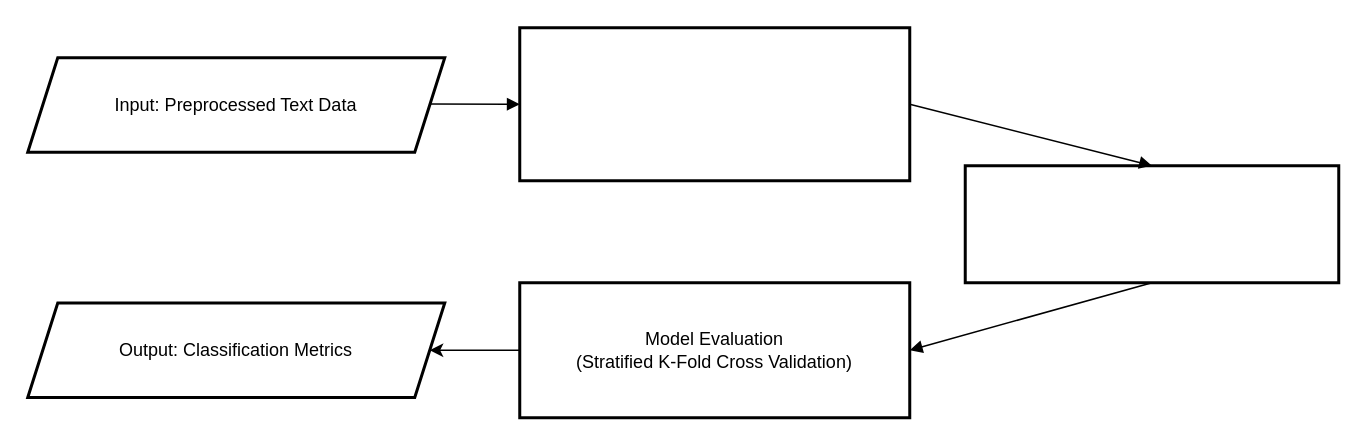
The diagram is 1365 pixels wide and 444 high, and some of its shapes have lost their labels. The shapes that lost their labels are listed below. From the top down, each one's box as (x1, y1, x2, y2) in pixels, then its label:
(518, 26, 910, 182): Feature Extraction using IndoBERTweet Embedding
(963, 164, 1340, 284): Support Vector Machine (RBF Kernel) Classification
